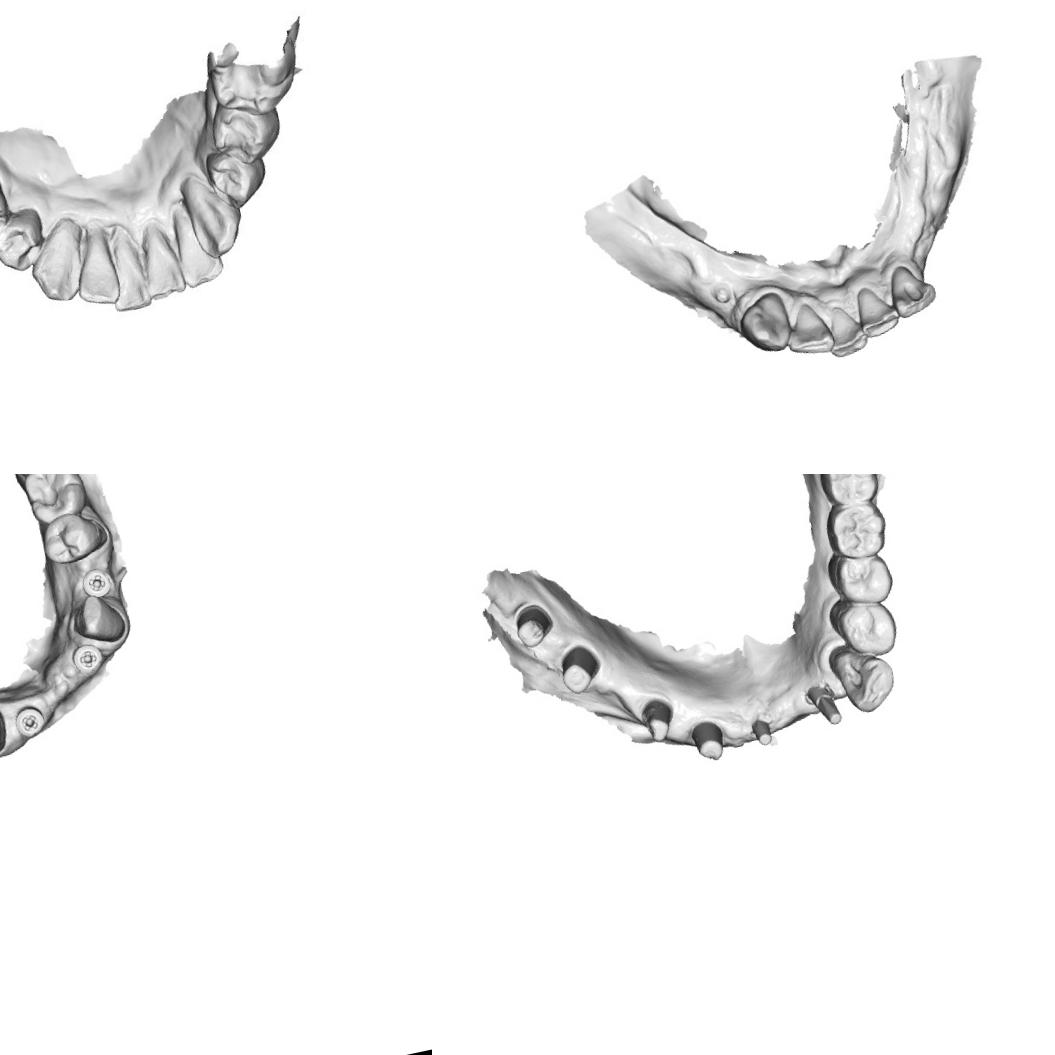abutment: (554, 641, 606, 699), (508, 600, 558, 652), (635, 693, 680, 746), (685, 716, 729, 766), (802, 679, 844, 730), (748, 716, 776, 750)
canine: (179, 170, 249, 265), (824, 636, 900, 718), (22, 222, 90, 308), (732, 286, 798, 358), (67, 588, 128, 650)
implant_plus: (11, 704, 48, 740), (70, 641, 105, 678), (80, 566, 115, 600)
incisor: (96, 230, 156, 318), (168, 206, 226, 294), (67, 228, 125, 310), (136, 222, 192, 304), (882, 257, 942, 321), (778, 298, 836, 362), (852, 280, 903, 342), (822, 299, 872, 362)
molar: (820, 496, 892, 565), (17, 474, 91, 528), (814, 474, 883, 510)
premolar: (199, 92, 290, 176), (825, 588, 902, 664), (822, 542, 898, 613), (197, 138, 270, 210), (37, 506, 108, 568), (0, 203, 52, 276), (0, 168, 15, 245)
